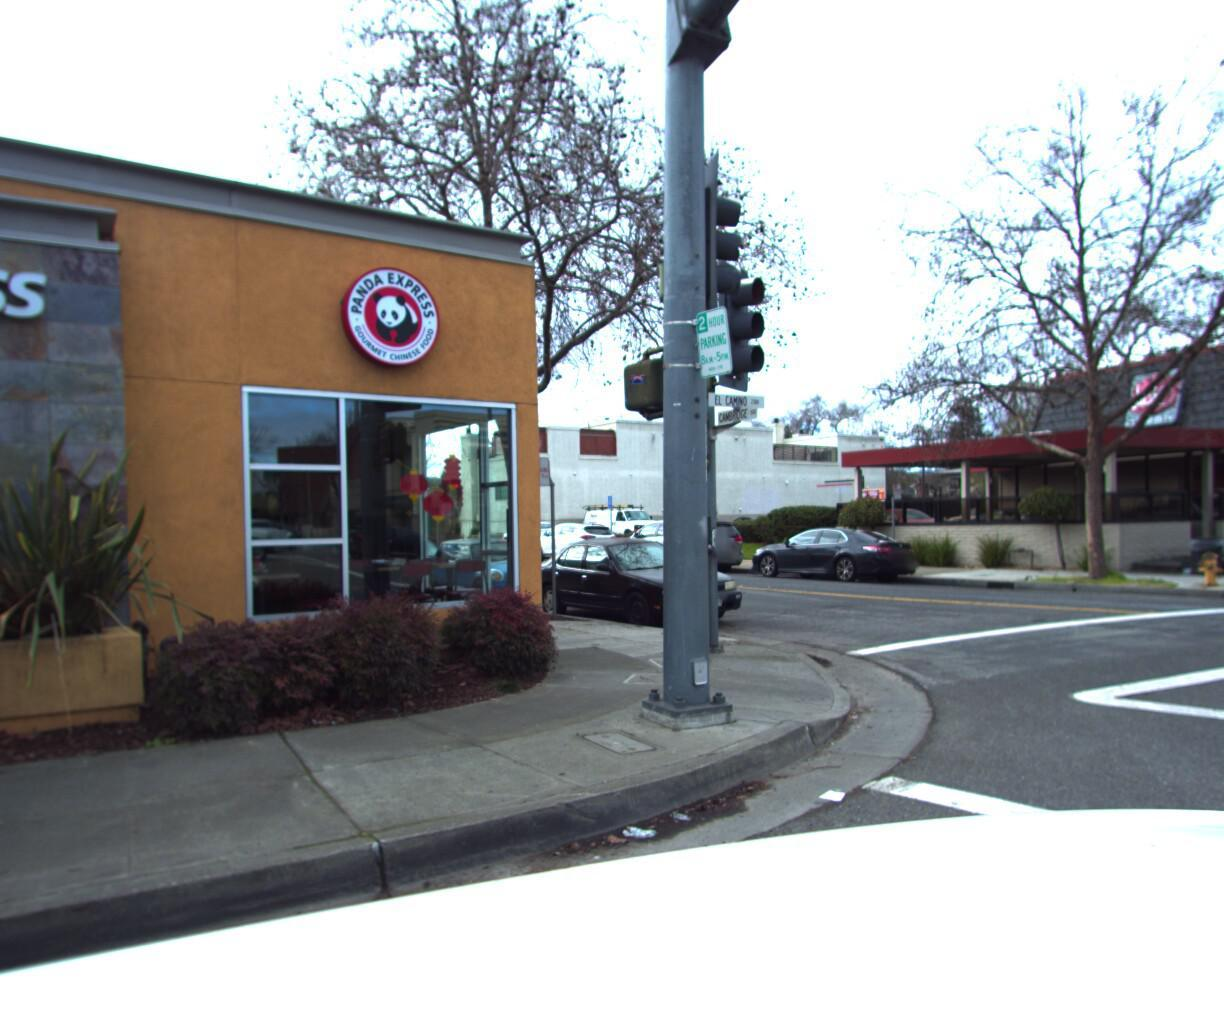car: (522, 525, 766, 636), (419, 527, 576, 608), (747, 517, 933, 583), (1095, 480, 1224, 550), (616, 507, 755, 570), (528, 513, 630, 560)
